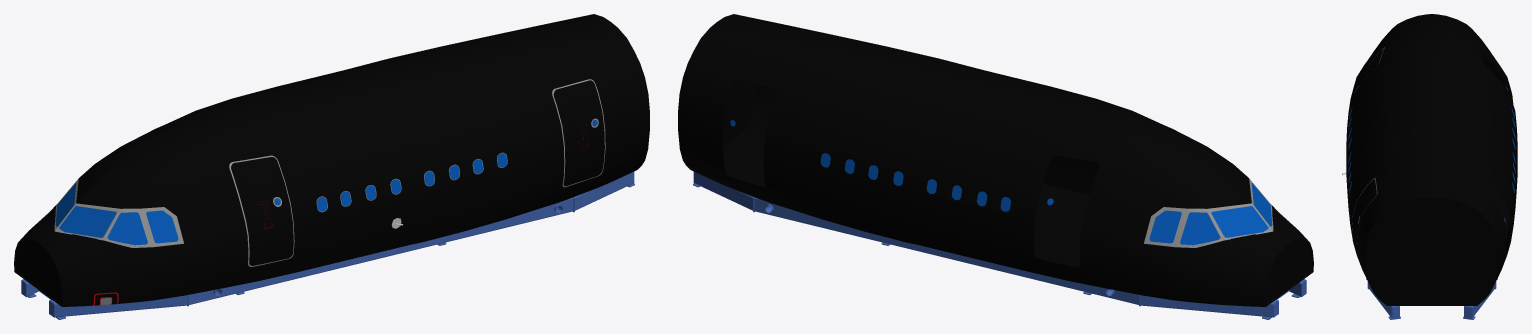
The model's file is Airplane_Camerarig.fbx.
3 views of the same model, side by side, from view 1: azimuth 30°, elevation 25°; view 2: azimuth 150°, elevation 25°; view 3: azimuth 270°, elevation 25° (orthographic). The views are drawn at different scales.
Visible parts, largest first — view 1: Huelle, Door_Front, Door_Back, _Body_2, _Body_2_3, polySurface833, polySurface831, polySurface832, _Body_2_27, Door_Case_Front; view 2: Huelle, _Body_2_1, _Body_2_2, polySurface833, polySurface831, polySurface832, _Body_2_28; view 3: Huelle, Door_Back, Door_Front, _Body_2_27, _Body_2_28.
Boxes of the visible parts, x1=… form: Huelle: x1=14, y1=14, x2=649, y2=306; Door_Front: x1=231, y1=157, x2=293, y2=265; Door_Back: x1=553, y1=80, x2=604, y2=186; _Body_2: x1=189, y1=197, x2=573, y2=304; _Body_2_3: x1=49, y1=295, x2=187, y2=317; polySurface833: x1=59, y1=206, x2=116, y2=237; polySurface831: x1=107, y1=212, x2=147, y2=245; polySurface832: x1=146, y1=210, x2=178, y2=243; _Body_2_27: x1=574, y1=171, x2=634, y2=210; Door_Case_Front: x1=229, y1=155, x2=294, y2=266; Huelle: x1=678, y1=14, x2=1313, y2=306; _Body_2_1: x1=754, y1=197, x2=1138, y2=304; _Body_2_2: x1=1140, y1=295, x2=1278, y2=317; polySurface833: x1=1211, y1=206, x2=1268, y2=237; polySurface831: x1=1180, y1=212, x2=1220, y2=245; polySurface832: x1=1149, y1=210, x2=1181, y2=243; _Body_2_28: x1=693, y1=171, x2=753, y2=210; Huelle: x1=1346, y1=14, x2=1517, y2=305; Door_Back: x1=1352, y1=179, x2=1376, y2=267; Door_Front: x1=1349, y1=48, x2=1383, y2=108; _Body_2_27: x1=1368, y1=283, x2=1399, y2=318; _Body_2_28: x1=1464, y1=283, x2=1495, y2=318.
Size of the model in its own units: 128 by 32.03 by 40.15.
